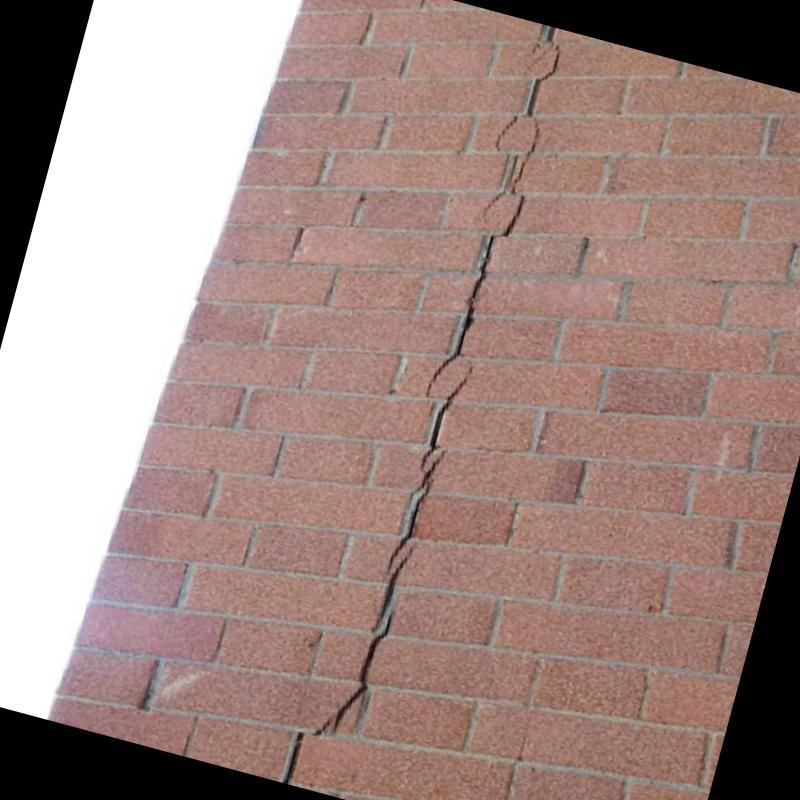pothole: (279, 24, 559, 784)
